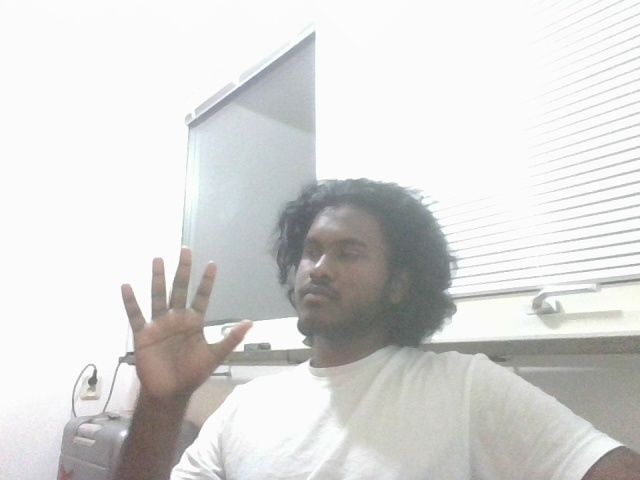hello: (110, 248, 261, 405)
